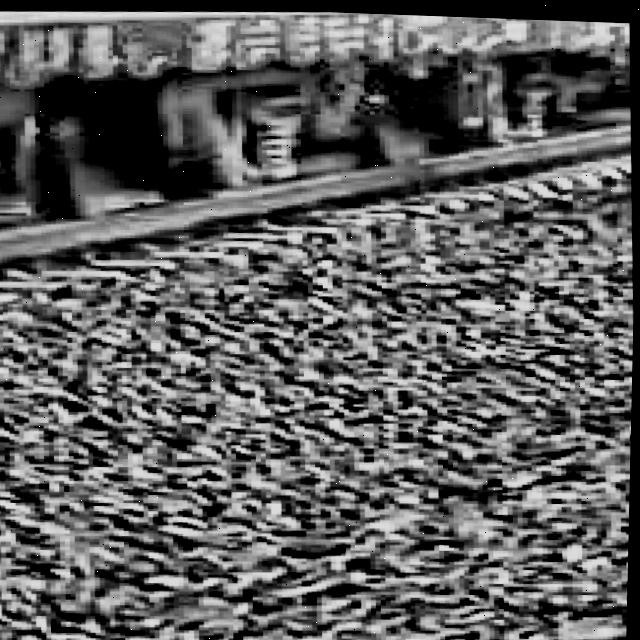Gerbong: (0, 0, 518, 376), (321, 9, 633, 158)
